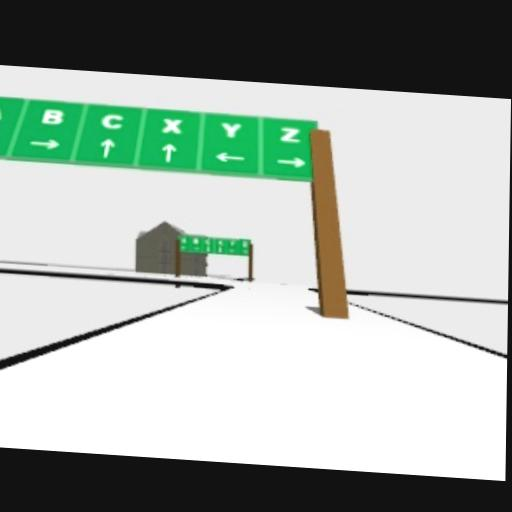B: (41, 108, 63, 127)
C: (100, 113, 123, 132)
Left: (214, 150, 248, 165)
Right: (274, 154, 306, 171), (27, 136, 61, 152)
Straight: (99, 135, 115, 159), (159, 143, 177, 164)
X: (161, 118, 182, 135)
Y: (221, 120, 242, 141)
Z: (279, 127, 301, 144)
